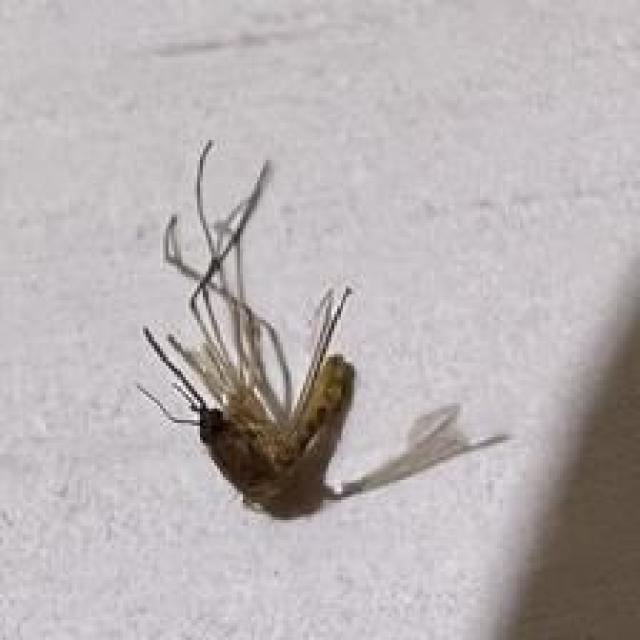Culex: (134, 137, 512, 520)
